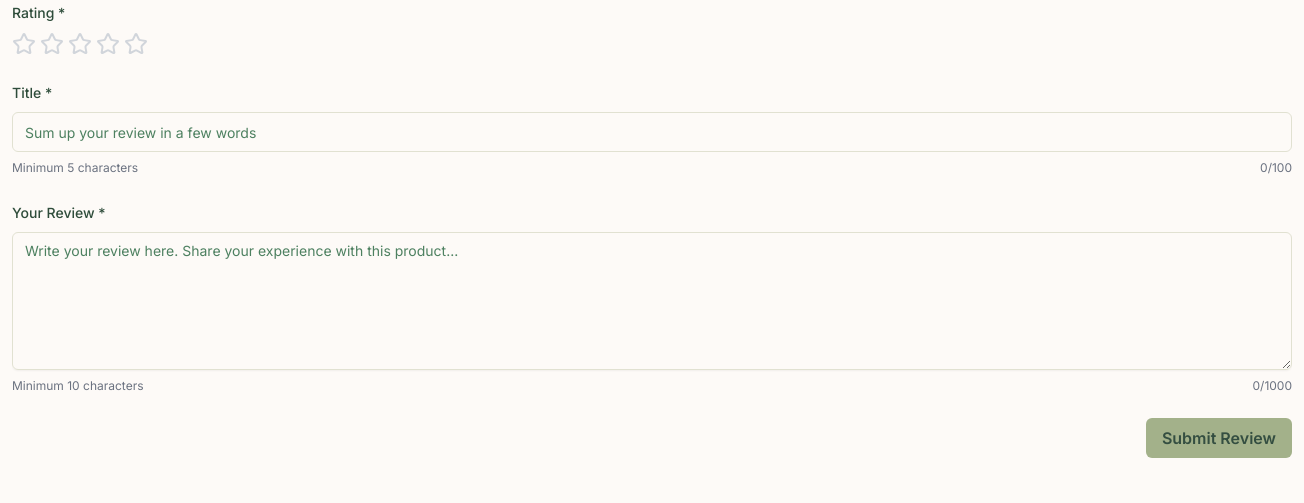
Test: ReviewForm › Create mode › should validate required fields
The width and height of the screenshot is (1304, 503).
What coordinates should you click on to do the following:
click the button "Submit Review"
I would click on:
 (1219, 438)
Its box is [1146,418,1292,458].
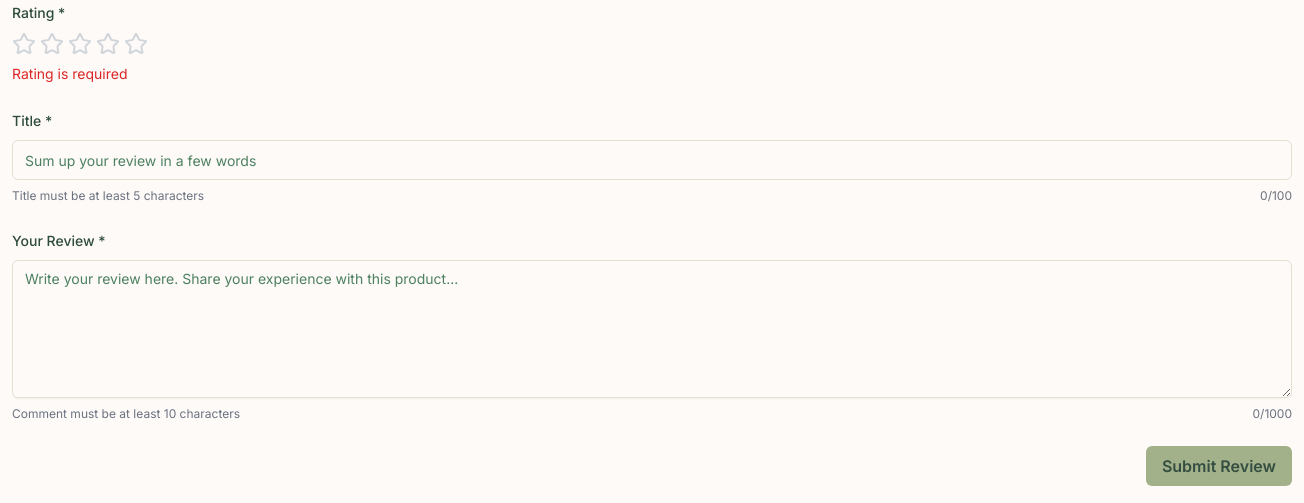
Result: the text "Rating is required" is shown at [12,65,128,82]
